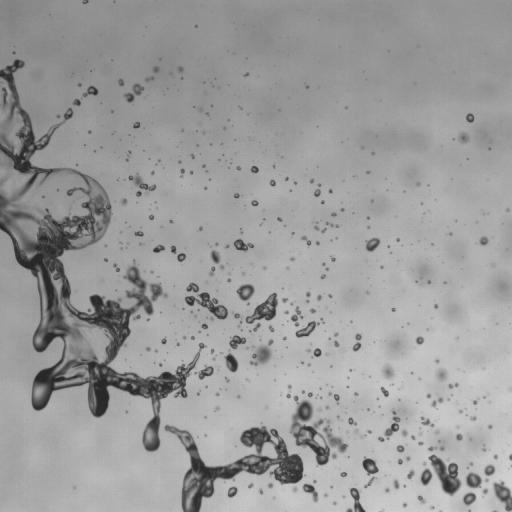droplet: (164, 424, 304, 511), (420, 454, 461, 496), (129, 174, 155, 196), (345, 488, 365, 511), (236, 284, 254, 304), (302, 481, 318, 502), (224, 351, 238, 372), (465, 472, 482, 488), (229, 335, 246, 349), (196, 365, 213, 379), (234, 239, 253, 251), (290, 307, 302, 326), (365, 238, 380, 251), (484, 464, 495, 481), (462, 492, 476, 505), (382, 365, 394, 379), (83, 86, 98, 96), (436, 368, 447, 381), (210, 250, 220, 263), (458, 132, 468, 143), (228, 486, 237, 497), (153, 244, 164, 252), (479, 236, 487, 245), (177, 253, 186, 261), (407, 470, 415, 479), (313, 348, 321, 356), (348, 417, 356, 425), (417, 495, 425, 503), (466, 113, 473, 122), (381, 387, 388, 396), (393, 479, 399, 489), (416, 336, 423, 344), (396, 445, 404, 452), (251, 166, 258, 173), (170, 245, 176, 253), (113, 263, 119, 271), (73, 99, 80, 105), (314, 189, 320, 196), (121, 198, 127, 205), (251, 200, 258, 206), (234, 313, 241, 319), (268, 325, 274, 332), (332, 341, 339, 347), (401, 429, 407, 436), (456, 433, 462, 440), (135, 231, 143, 236), (334, 394, 339, 402), (428, 446, 436, 451), (133, 122, 139, 128), (270, 179, 275, 186), (314, 223, 319, 230), (153, 67, 159, 72), (118, 79, 123, 85), (202, 323, 207, 329), (482, 488, 487, 494), (234, 193, 239, 198), (330, 256, 335, 261), (310, 308, 315, 313), (161, 338, 166, 343), (307, 392, 312, 397), (248, 483, 253, 488), (146, 77, 152, 81), (306, 292, 310, 298), (470, 416, 476, 420), (340, 472, 346, 476), (178, 67, 183, 71), (321, 228, 326, 232), (317, 295, 321, 300), (282, 298, 287, 302), (214, 406, 219, 410), (418, 441, 423, 445), (398, 459, 402, 464), (268, 483, 272, 488), (328, 189, 332, 193), (149, 215, 153, 219), (277, 217, 281, 221), (321, 274, 325, 278), (284, 310, 288, 314), (146, 347, 150, 351), (287, 385, 291, 389), (286, 393, 290, 397), (426, 394, 430, 398), (473, 400, 477, 404), (354, 429, 358, 433), (406, 456, 410, 460), (385, 488, 389, 492), (83, 0, 88, 3), (220, 264, 223, 269), (360, 435, 365, 438), (494, 454, 497, 459), (244, 73, 248, 76), (237, 166, 240, 170), (332, 213, 336, 216), (291, 257, 294, 261), (434, 304, 437, 308), (320, 318, 323, 322), (334, 332, 337, 336), (211, 349, 214, 353), (326, 405, 329, 409), (336, 416, 340, 419), (367, 430, 371, 433), (440, 447, 444, 450), (482, 447, 485, 451), (422, 462, 426, 465), (259, 489, 262, 493), (191, 154, 194, 157), (151, 171, 154, 174), (310, 179, 313, 182), (199, 227, 202, 230), (316, 241, 319, 244), (227, 278, 230, 281), (191, 336, 194, 339), (436, 359, 439, 362), (488, 425, 491, 428), (435, 430, 438, 433), (411, 436, 414, 439), (403, 503, 406, 506), (470, 462, 472, 466), (78, 83, 80, 86), (294, 181, 296, 184), (417, 182, 419, 185), (321, 201, 324, 203), (341, 208, 343, 211), (225, 245, 228, 247), (104, 259, 107, 261), (326, 267, 328, 270), (428, 280, 430, 283), (329, 294, 331, 297), (306, 300, 309, 302), (392, 308, 394, 311), (183, 336, 185, 339), (283, 337, 286, 339), (176, 343, 179, 345), (226, 378, 228, 381), (328, 392, 330, 395), (355, 392, 357, 395), (318, 408, 320, 411), (459, 410, 462, 412), (431, 506, 433, 509), (126, 158, 128, 160), (273, 165, 275, 167), (190, 171, 192, 173), (285, 178, 287, 180), (318, 184, 320, 186), (170, 220, 172, 222), (240, 230, 242, 232), (449, 233, 451, 235), (263, 266, 265, 268), (307, 349, 309, 351), (159, 364, 161, 366), (302, 391, 304, 393), (216, 393, 218, 395), (325, 494, 327, 496), (334, 502, 336, 504)
ligament: (0, 59, 205, 451), (289, 395, 347, 466), (185, 283, 227, 319), (244, 292, 277, 331), (378, 411, 400, 441), (250, 339, 273, 365), (493, 481, 511, 511), (362, 457, 378, 487), (295, 321, 318, 337), (124, 83, 143, 102), (352, 333, 361, 351), (421, 417, 434, 427), (431, 397, 443, 407), (302, 236, 310, 244), (326, 222, 338, 227), (448, 383, 458, 388), (209, 267, 215, 275), (180, 169, 184, 176), (0, 178, 4, 185), (509, 454, 511, 460), (509, 387, 511, 391), (379, 510, 383, 511), (493, 510, 497, 511)
